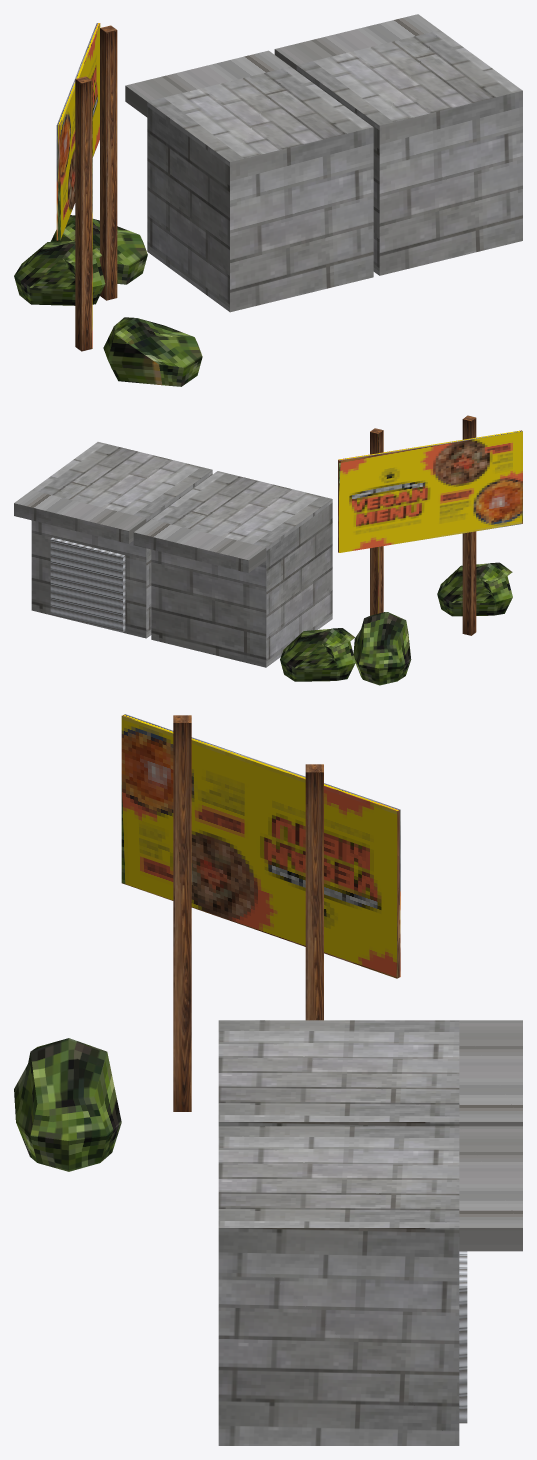
Rendered from House 6.fbx.
3 renders of one model, top to bottom at view 1: azimuth 30°, elevation 25°; view 2: azimuth 150°, elevation 25°; view 3: azimuth 270°, elevation 25°, orthographic. The views are drawn at different scales.
Visible parts, largest first — view 1: Cube.002, Cube, Cube.003, Cube.006, Cube.004, Cube.005; view 2: Cube.002, Cube.003, Cube, Cube.001, Cube.004, Cube.005, Cube.006; view 3: Cube, Cube.003, Cube.002, Cube.006, Cube.001.
Part boxes in pixels (x1,y1,x2,y2): Cube.002: [125, 50, 373, 312]; Cube: [274, 14, 522, 275]; Cube.003: [56, 23, 117, 351]; Cube.006: [103, 317, 202, 386]; Cube.004: [14, 240, 105, 305]; Cube.005: [51, 215, 147, 284]; Cube.002: [133, 471, 332, 667]; Cube.003: [338, 415, 522, 635]; Cube: [14, 442, 212, 638]; Cube.001: [50, 537, 125, 632]; Cube.004: [353, 612, 411, 685]; Cube.005: [280, 628, 355, 681]; Cube.006: [437, 562, 512, 616]; Cube: [218, 1126, 522, 1445]; Cube.003: [121, 714, 400, 1111]; Cube.002: [218, 1020, 522, 1126]; Cube.006: [14, 1038, 121, 1171]; Cube.001: [459, 1251, 467, 1423].
Size of the model in its own units: 4061 by 2234 by 2474.
